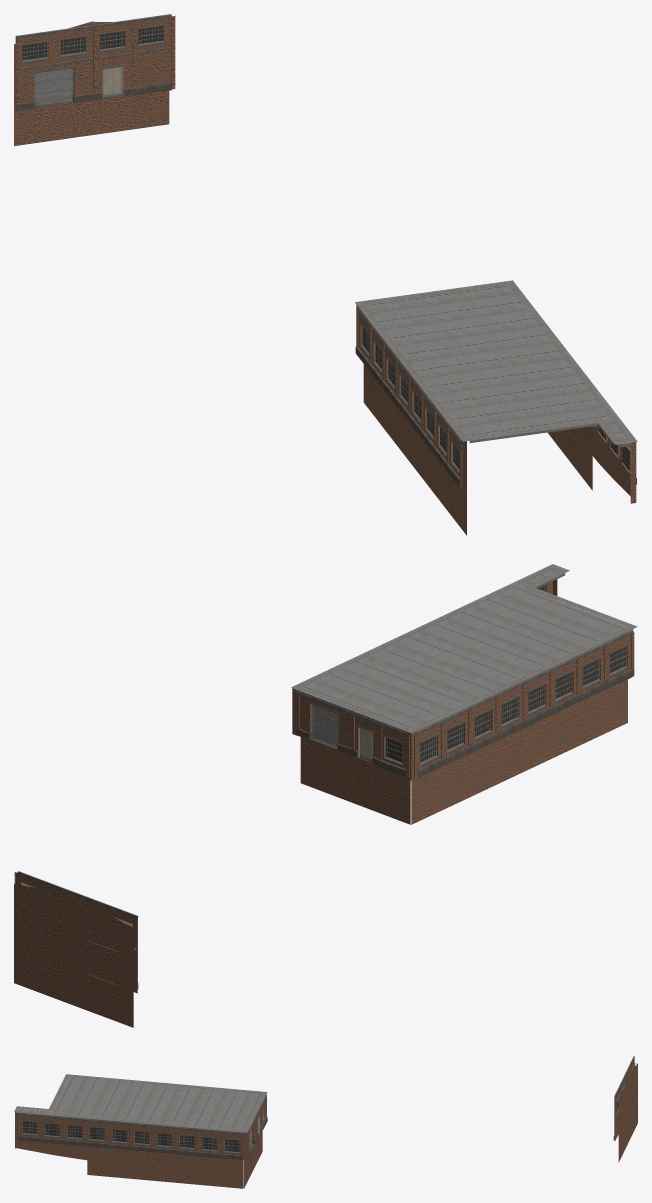
Rendered from fachadas-detalhadas.glb.
3 renders of one model, top to bottom at view 1: azimuth 30°, elevation 25°; view 2: azimuth 150°, elevation 25°; view 3: azimuth 270°, elevation 25°, orthographic. The views are drawn at different scales.
Visible parts, largest first — view 1: Industrial facades / illustrated retrofit; view 2: Industrial facades / illustrated retrofit; view 3: Industrial facades / illustrated retrofit.
Boxes of the visible parts, box(x1,y1,x2,y2) form: Industrial facades / illustrated retrofit: box(14, 14, 637, 535); Industrial facades / illustrated retrofit: box(14, 564, 637, 1027); Industrial facades / illustrated retrofit: box(14, 1056, 637, 1188).
Size of the model in its own units: 17.4 by 11.92 by 78.22.
6 materials, 6 textured.
